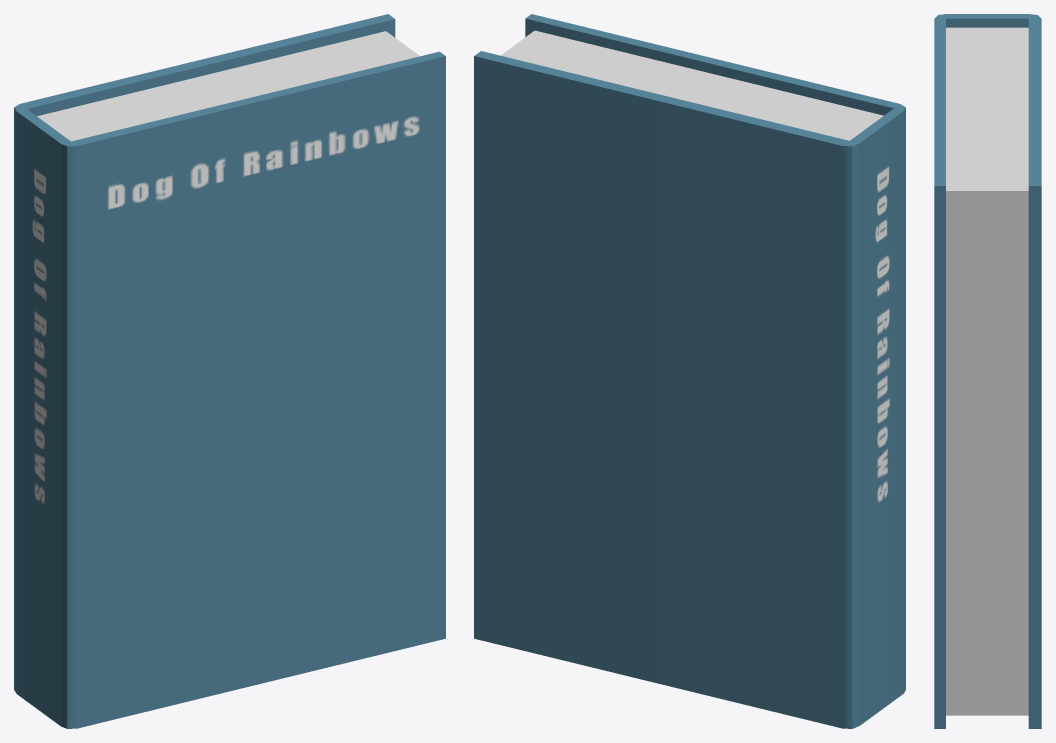
File: BOOK.fbx
The picture shows the model from 3 angles, left to right: view 1: azimuth 30°, elevation 25°; view 2: azimuth 150°, elevation 25°; view 3: azimuth 270°, elevation 25°; orthographic projection. The views are drawn at different scales.
Visible parts, largest first — view 1: pCube2; view 2: pCube2; view 3: pCube2.
Part boxes in pixels (left/top/right/bottom): pCube2: left=14, top=14, right=445, bottom=728; pCube2: left=474, top=14, right=905, bottom=728; pCube2: left=934, top=14, right=1041, bottom=728.
Size of the model in its own units: 20.4 by 30 by 5.37.
2 materials, 1 textured.
